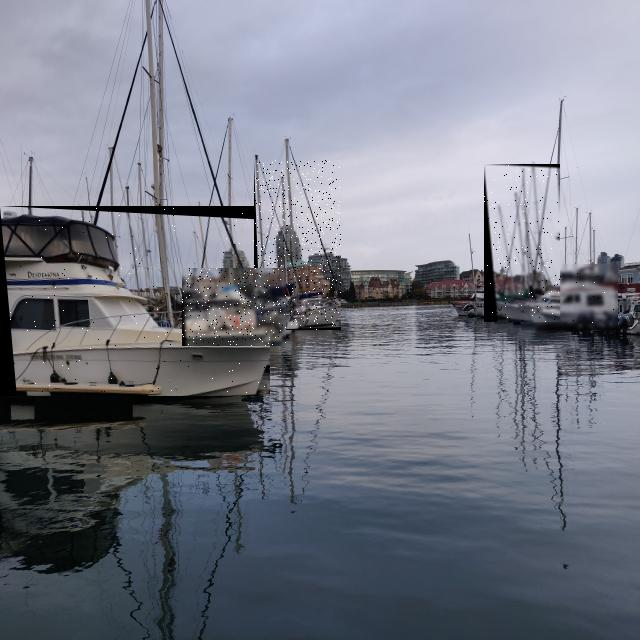boat: (0, 206, 270, 396), (254, 160, 341, 330), (484, 164, 560, 322), (182, 268, 286, 346), (521, 264, 618, 330)
